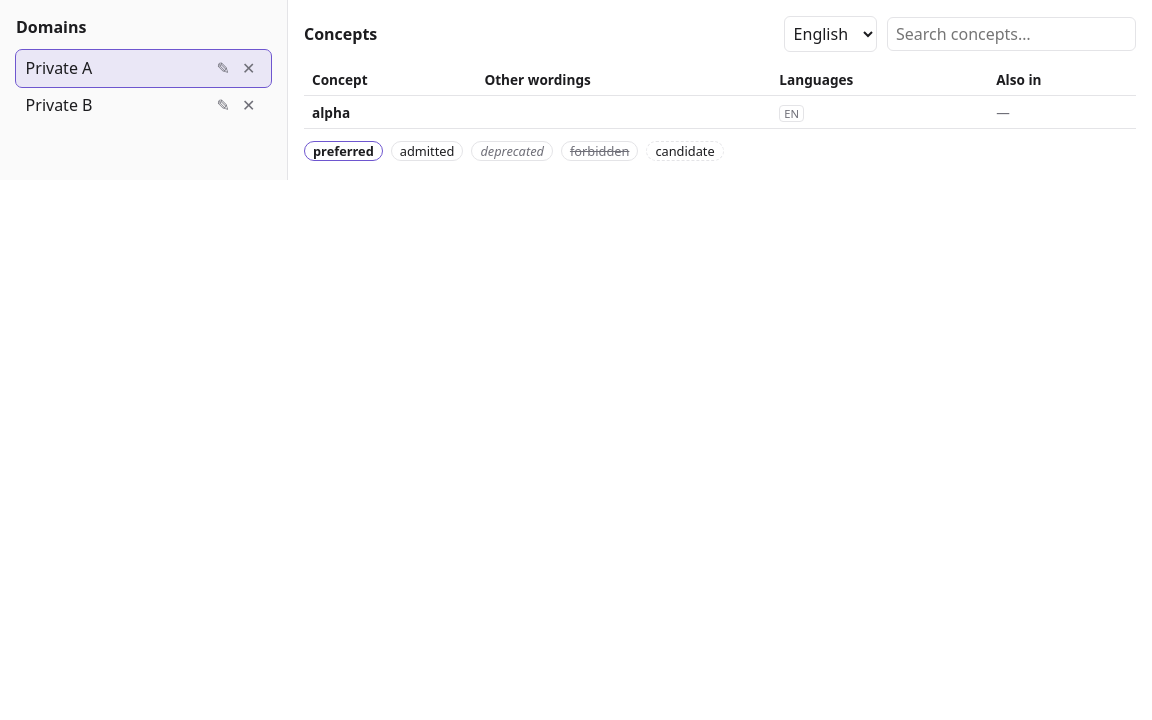
Test case: TerminologyView answers from an entry the writer has left › does not put a concept saved for the previous domain into the list shown
The image size is (1152, 720).
Click the button "alpha" at (331, 112), box x1=312 y1=103 x2=350 y2=122
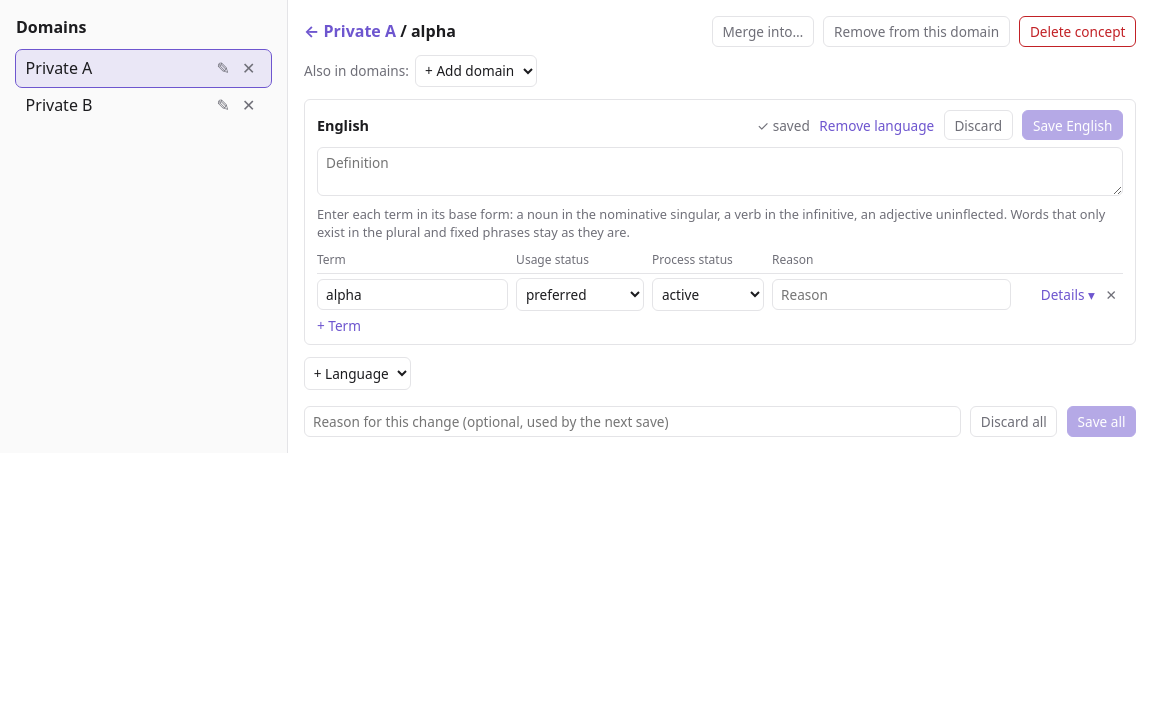
Type "A letter" into the text box labelled "Definition" at (720, 172), box x1=317 y1=147 x2=1123 y2=196
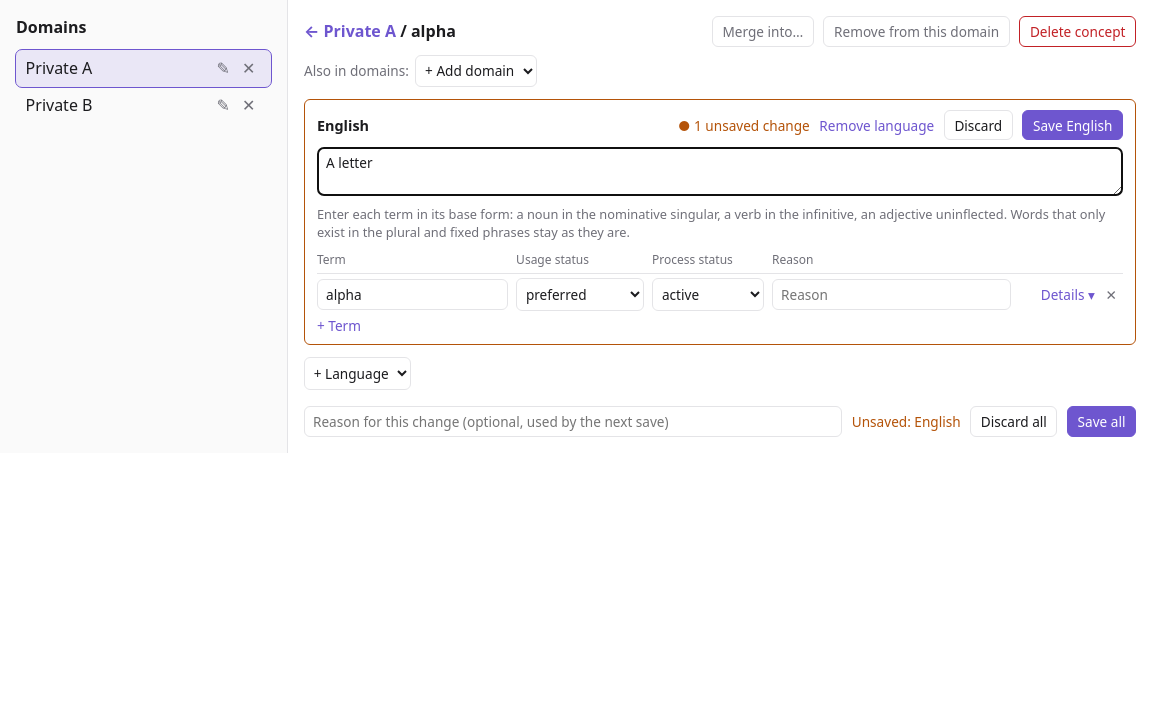
Click the button "Save English" at (1073, 125), box x1=1022 y1=110 x2=1123 y2=140
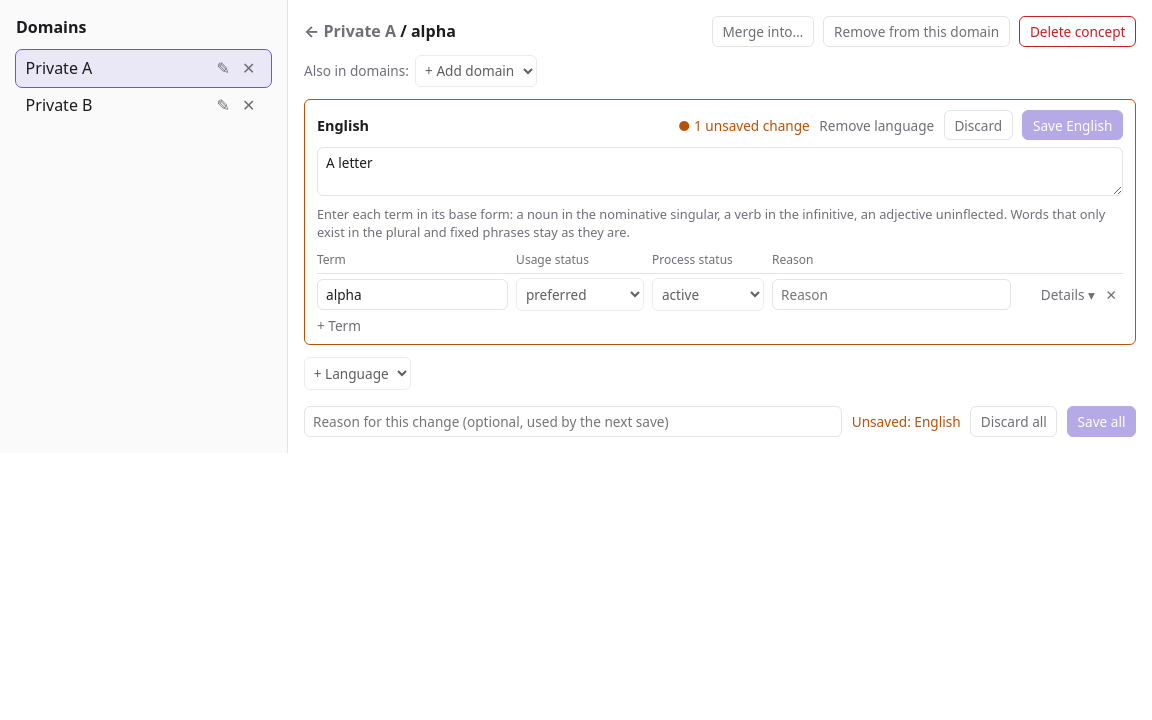
Click the text "Private B" at (59, 105), box x1=26 y1=94 x2=92 y2=116
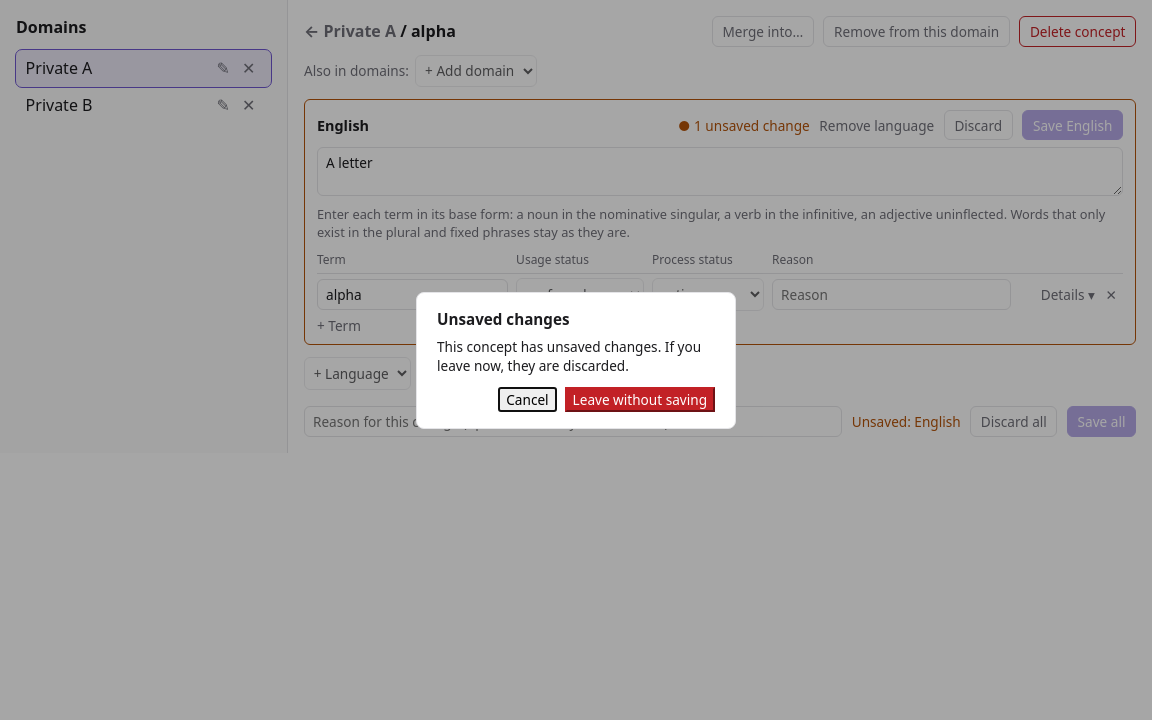
Click the button "Leave without saving" at (640, 399), box x1=565 y1=386 x2=715 y2=412
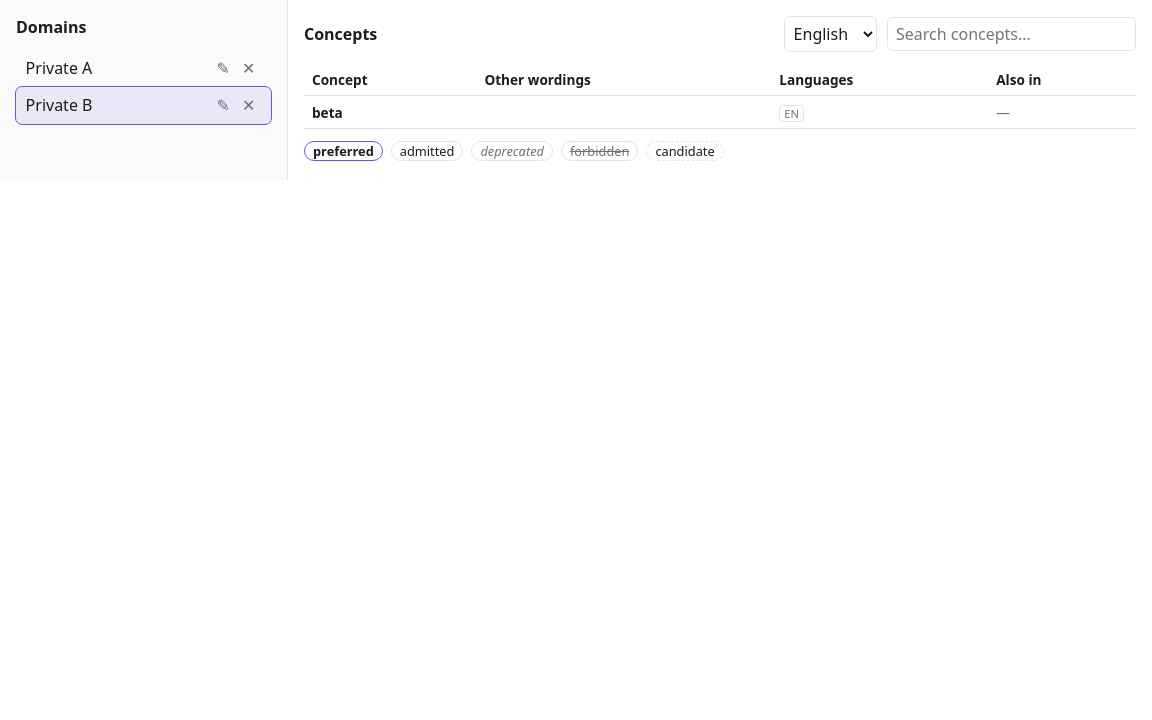
Expected: the button "beta" is shown, x1=312 y1=103 x2=343 y2=122
